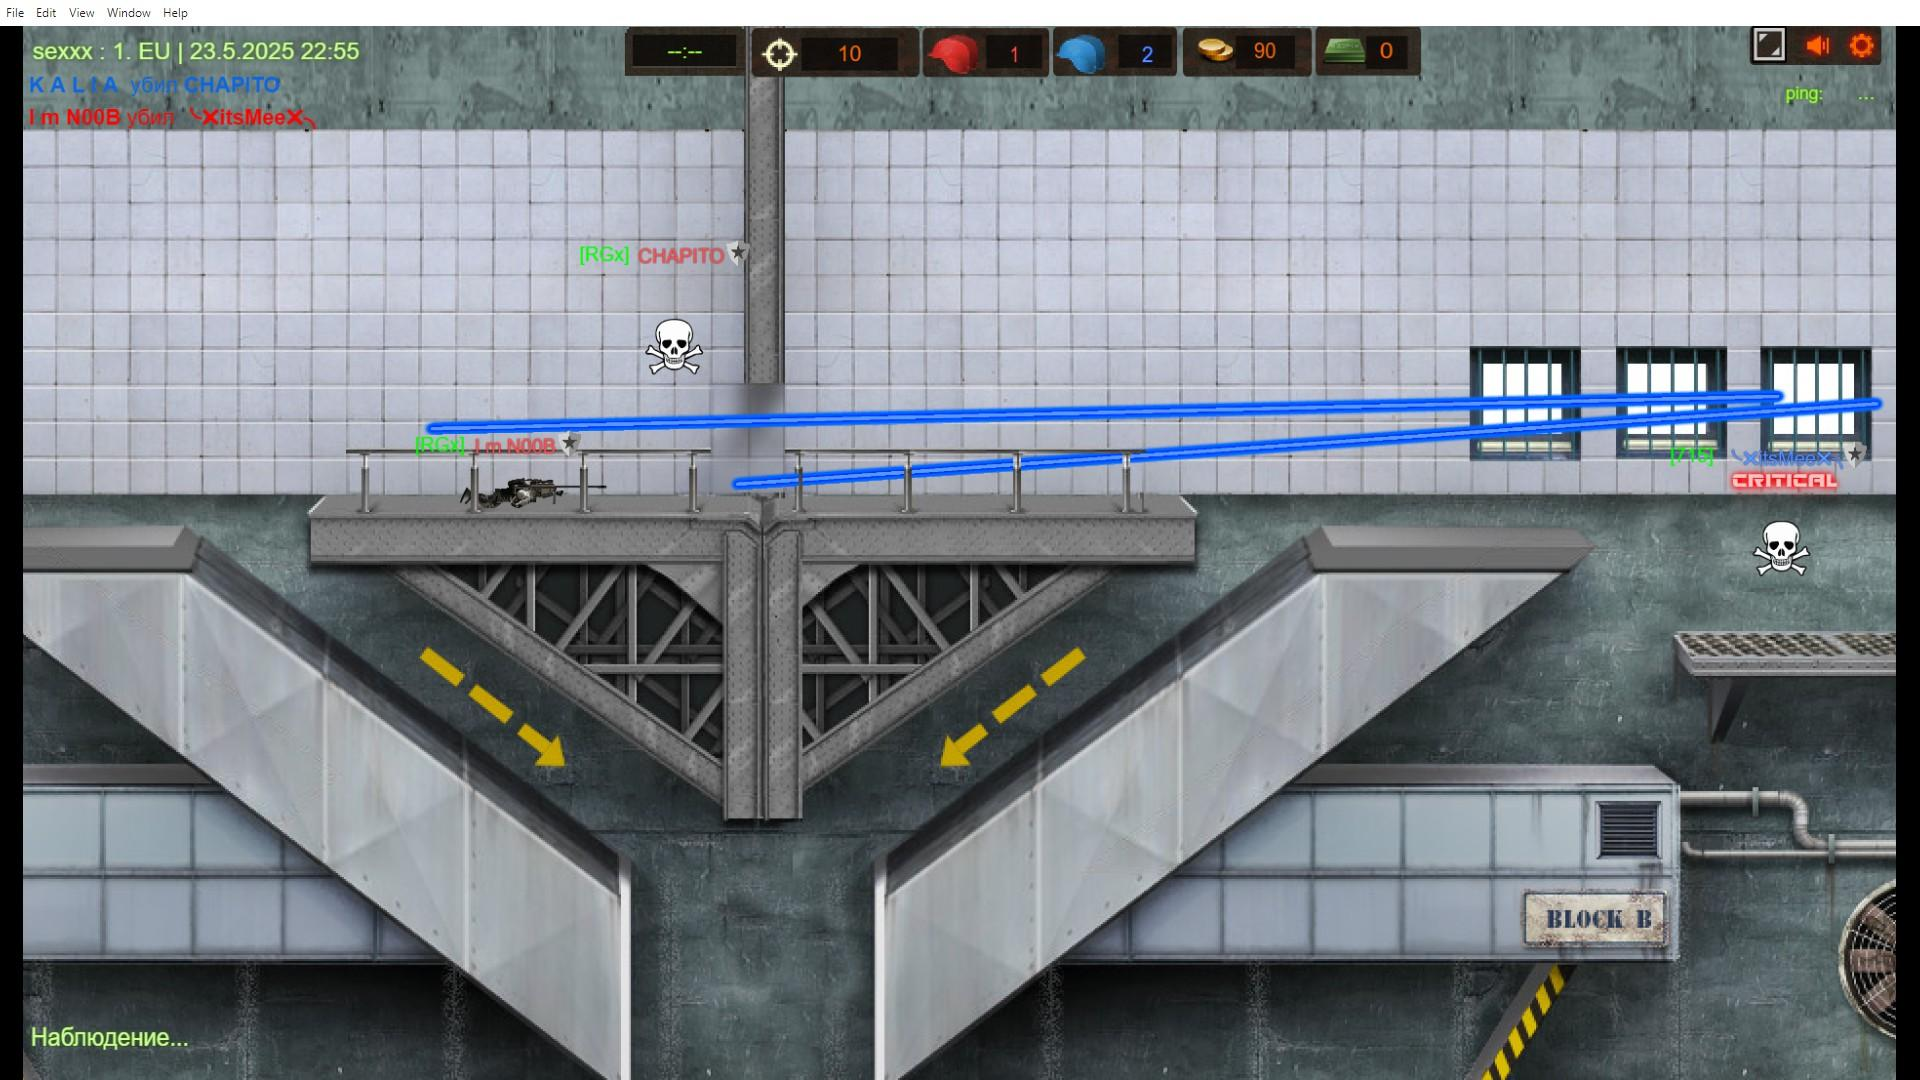enemy: (465, 472, 591, 514)
